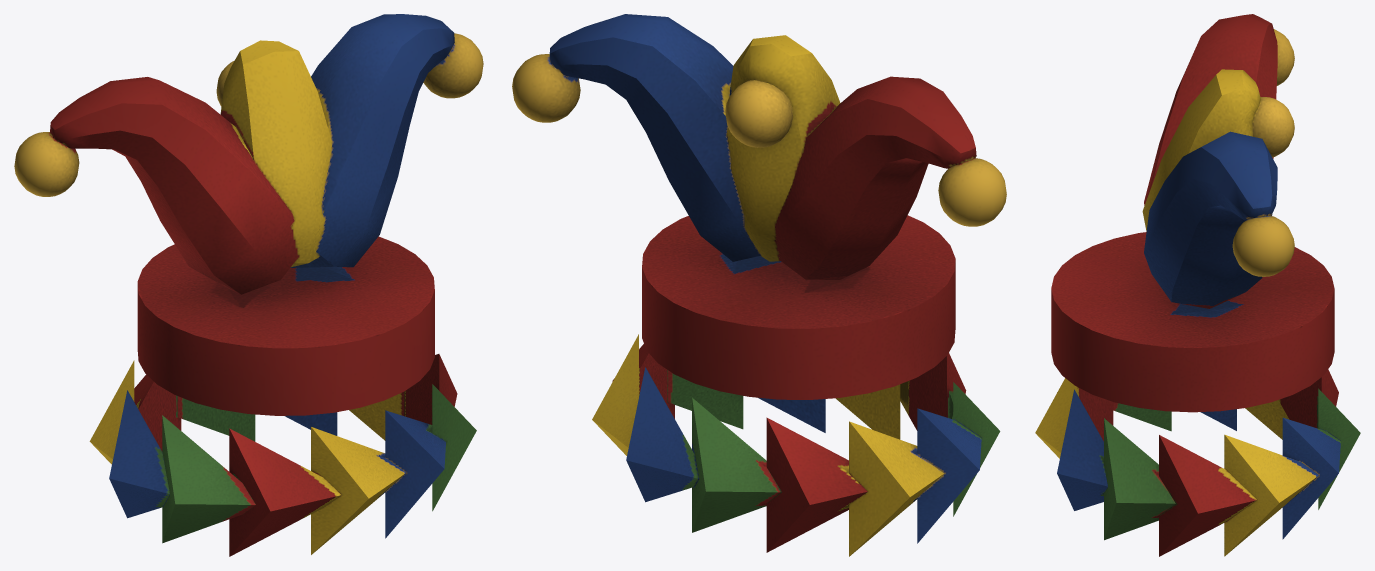
The model's file is npc_bobo.glb.
3 renders of one model, left to right at view 1: azimuth 30°, elevation 25°; view 2: azimuth 150°, elevation 25°; view 3: azimuth 270°, elevation 25°, orthographic. The views are drawn at different scales.
Visible parts, largest first — view 1: bobo_Head_peca, bobo_Spine2_peca; view 2: bobo_Head_peca, bobo_Spine2_peca; view 3: bobo_Head_peca, bobo_Spine2_peca.
Boxes of the visible parts, x1,y1,x2,y2 form: bobo_Head_peca: [14, 14, 483, 415]; bobo_Spine2_peca: [89, 354, 476, 556]; bobo_Head_peca: [512, 14, 1006, 399]; bobo_Spine2_peca: [592, 334, 1000, 556]; bobo_Head_peca: [1051, 14, 1334, 412]; bobo_Spine2_peca: [1035, 369, 1360, 556].
Bounding box in the file's own units: 0.3573 × 0.3281 × 0.23.
Materials: 2 (2 with a texture image).
